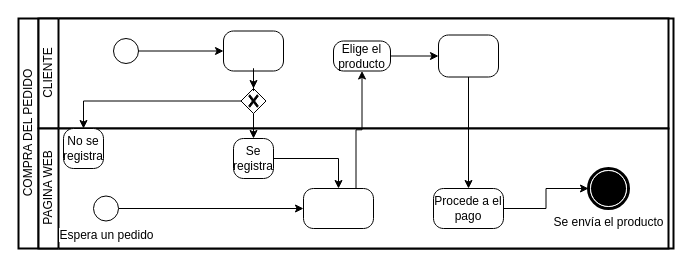
Image size: 691x266. Some labels were removed from this diagram. The box of each missing label's shape, as (x1, y1, x2, y2) in pixels:
Continua la operacion: (302, 188, 374, 228)
El cliente quiere comprar: (112, 38, 138, 64)
Ingresa a la pagina: (222, 30, 284, 71)
Selecciona el producto: (438, 34, 498, 77)
